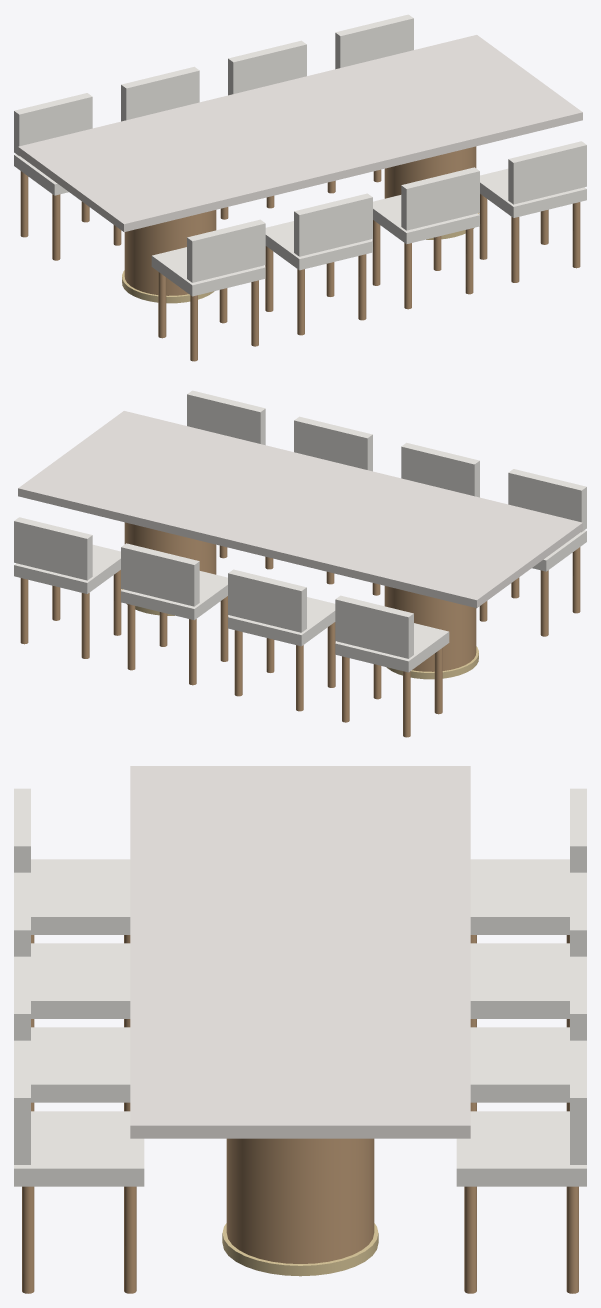
Rendered from the-zuma-dining-suite.glb.
3 renders of one model, top to bottom at view 1: azimuth 30°, elevation 25°; view 2: azimuth 150°, elevation 25°; view 3: azimuth 270°, elevation 25°, orthographic. The views are drawn at different scales.
Parts seen in each view (by area): view 1: ZebdecorMasterpiece; view 2: ZebdecorMasterpiece; view 3: ZebdecorMasterpiece.
Part boxes in pixels (<box>): ZebdecorMasterpiece: <box>14,14,586,361</box>; ZebdecorMasterpiece: <box>14,390,586,737</box>; ZebdecorMasterpiece: <box>14,766,586,1293</box>.
Bounding box in the file's own units: 3 × 0.77 × 2.02.
